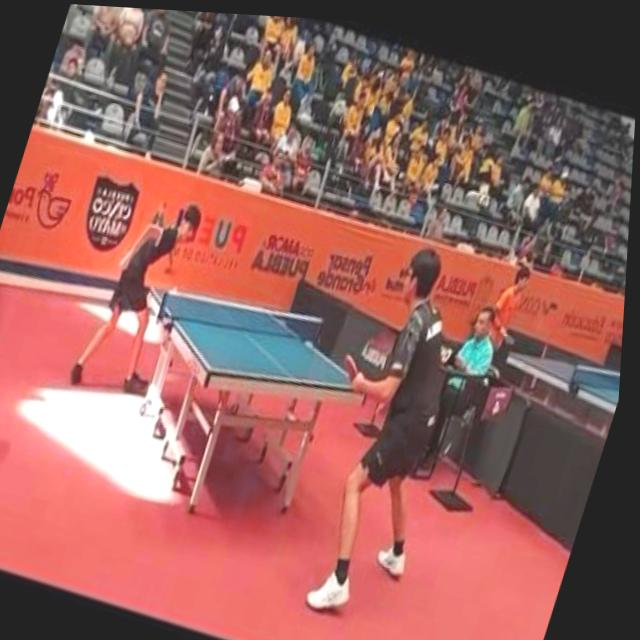TT Net: (155, 287, 327, 343)
TT Racket: (339, 351, 362, 386)
TT Table: (150, 284, 367, 388)
